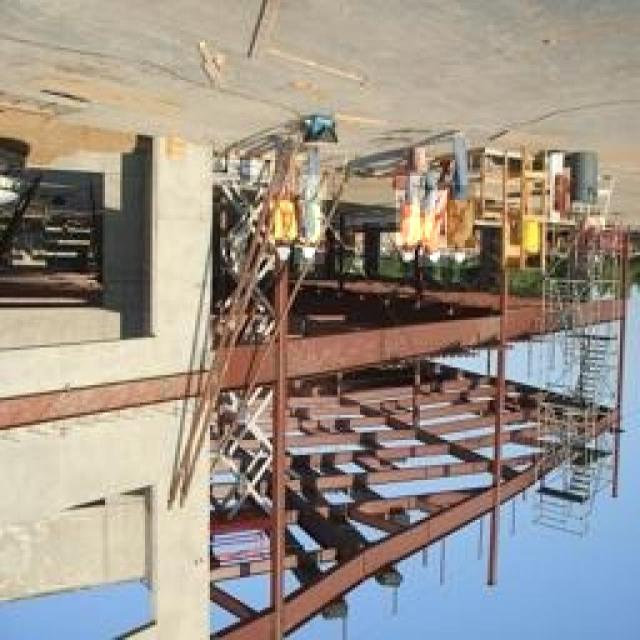Helmet: (260, 236, 294, 272), (293, 233, 325, 264), (385, 238, 418, 267), (445, 246, 477, 268), (418, 247, 448, 267)
Safety Vest: (396, 176, 426, 245), (444, 185, 476, 248), (269, 174, 294, 244), (300, 175, 326, 242), (424, 190, 447, 251)
